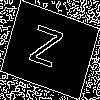Z: (25, 24, 64, 77)
